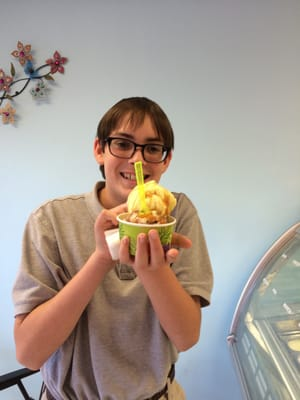pizza: (116, 213, 177, 256)
